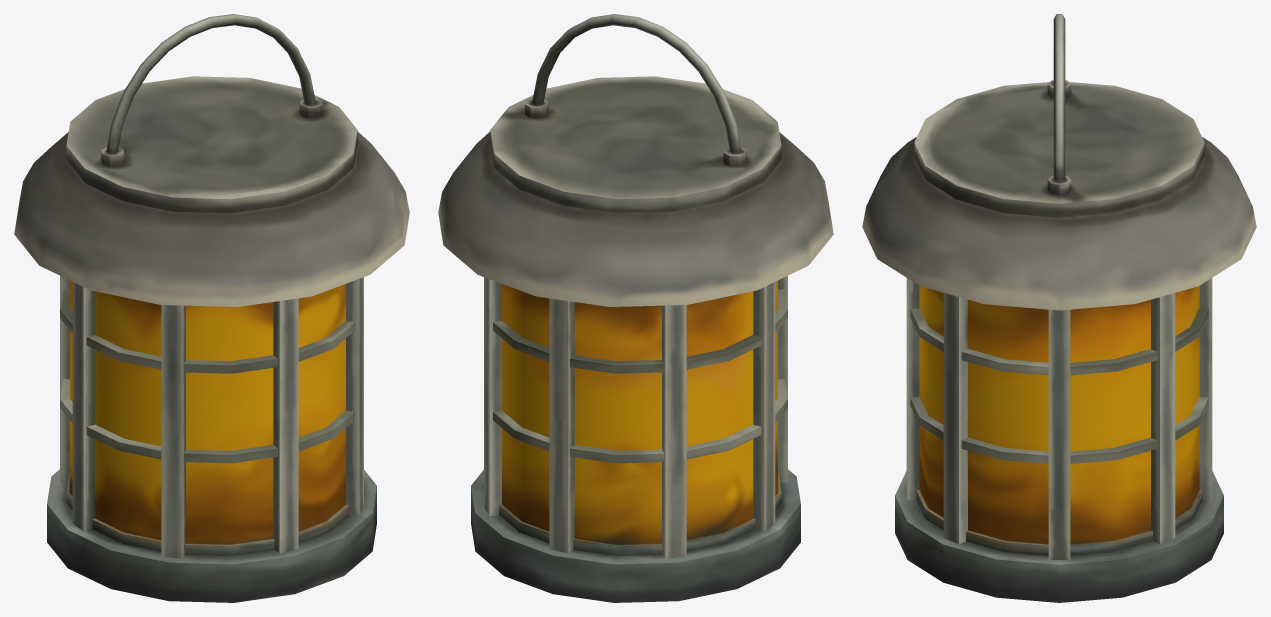
File: lantern.obj
The picture shows the model from 3 angles, left to right: view 1: azimuth 30°, elevation 25°; view 2: azimuth 150°, elevation 25°; view 3: azimuth 270°, elevation 25°; orthographic projection.
Parts seen in each view (by area): view 1: Lantern.001; view 2: Lantern.001; view 3: Lantern.001.
Boxes of the visible parts, left/top/right/bottom form: Lantern.001: left=14, top=14, right=409, bottom=602; Lantern.001: left=438, top=14, right=833, bottom=602; Lantern.001: left=862, top=14, right=1256, bottom=602.
Bounding box in the file's own units: 2.78 × 4.09 × 2.78.
Materials: 1 (1 with a texture image).
